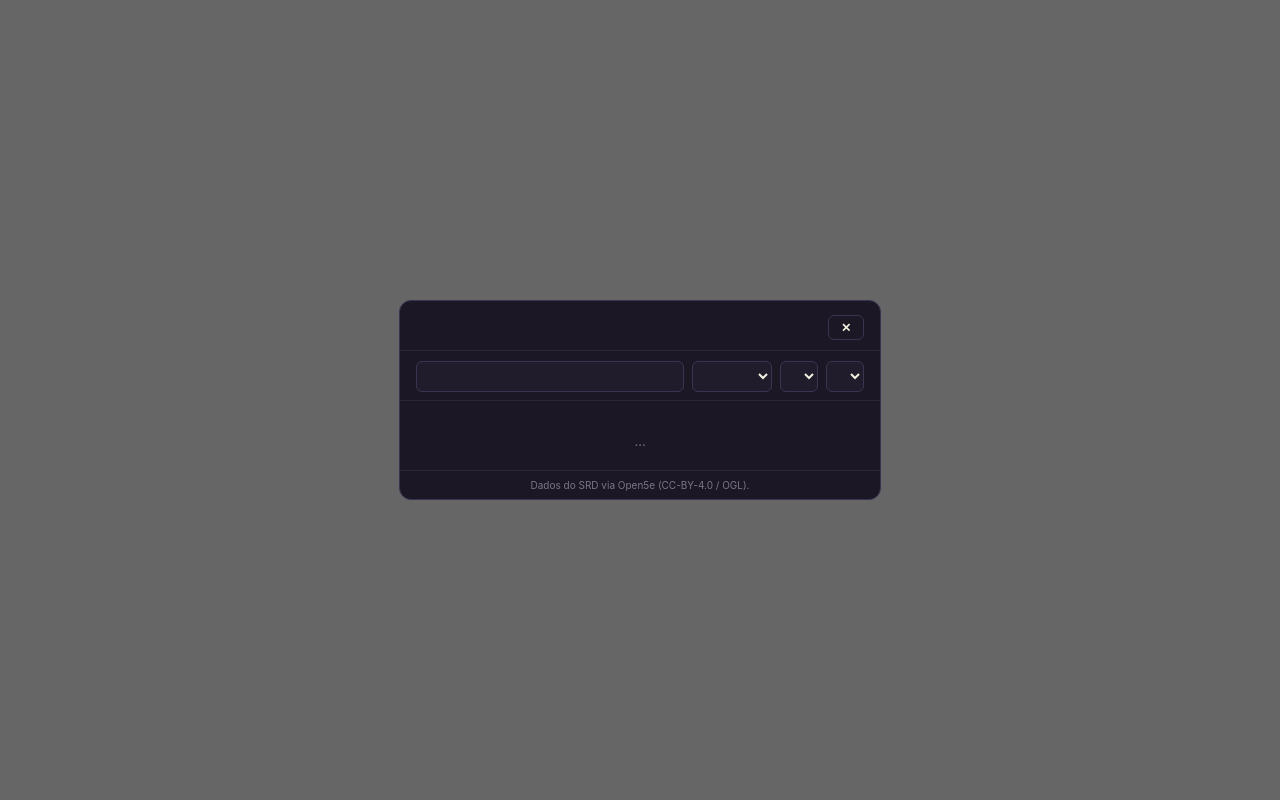
it: SpellSearchModal › class filter combines with level filter
Note: Wizard level-3 spells: only Fireball (MageArmor is level 1)
Step 1. Select "Wizard" in the dropdown with test id "spell-search-class" → (845,376), box [826, 361, 864, 392]
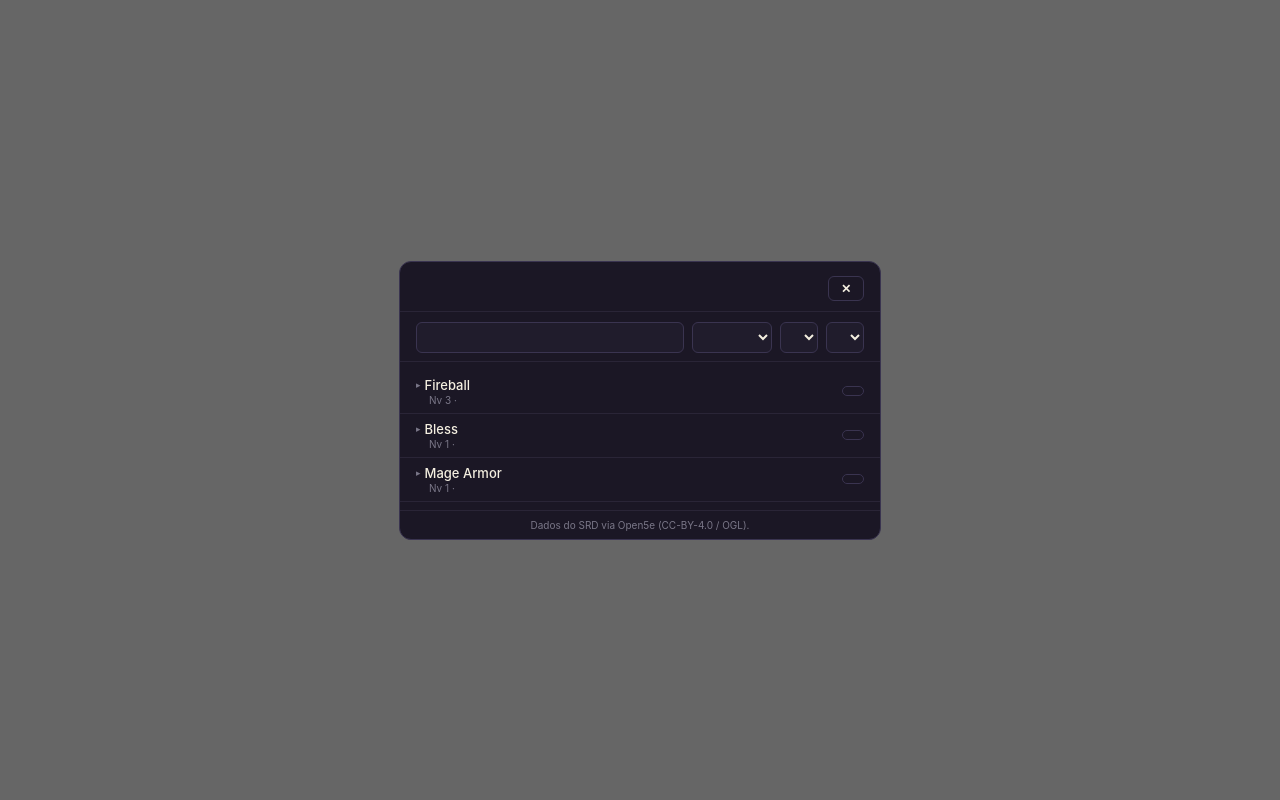
Step 2. Select "Level 3" in the dropdown with test id "spell-search-level" → (732,337), box [692, 322, 772, 352]
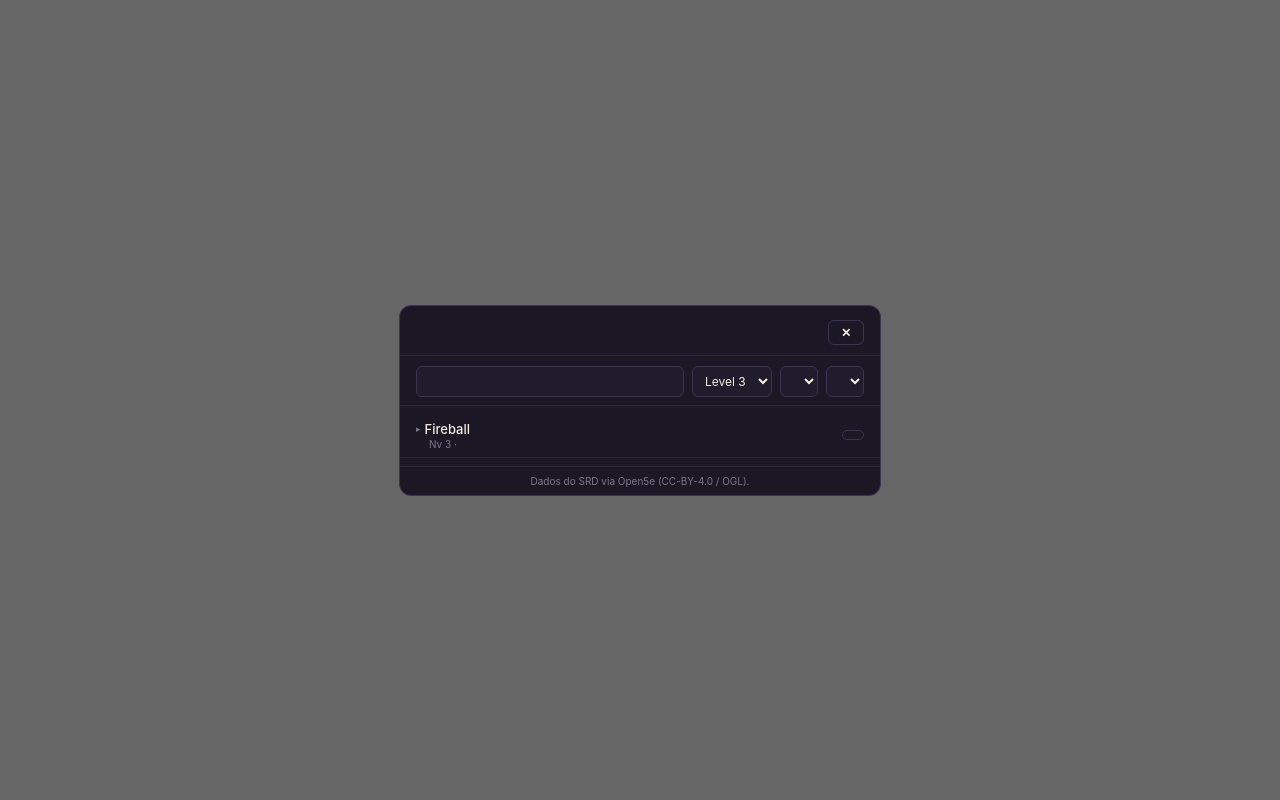
Result: the element with test id "srd-spell-fireball" is shown at [400, 414, 880, 458]
Result: the element with test id "srd-spell-mage-armor" is gone
